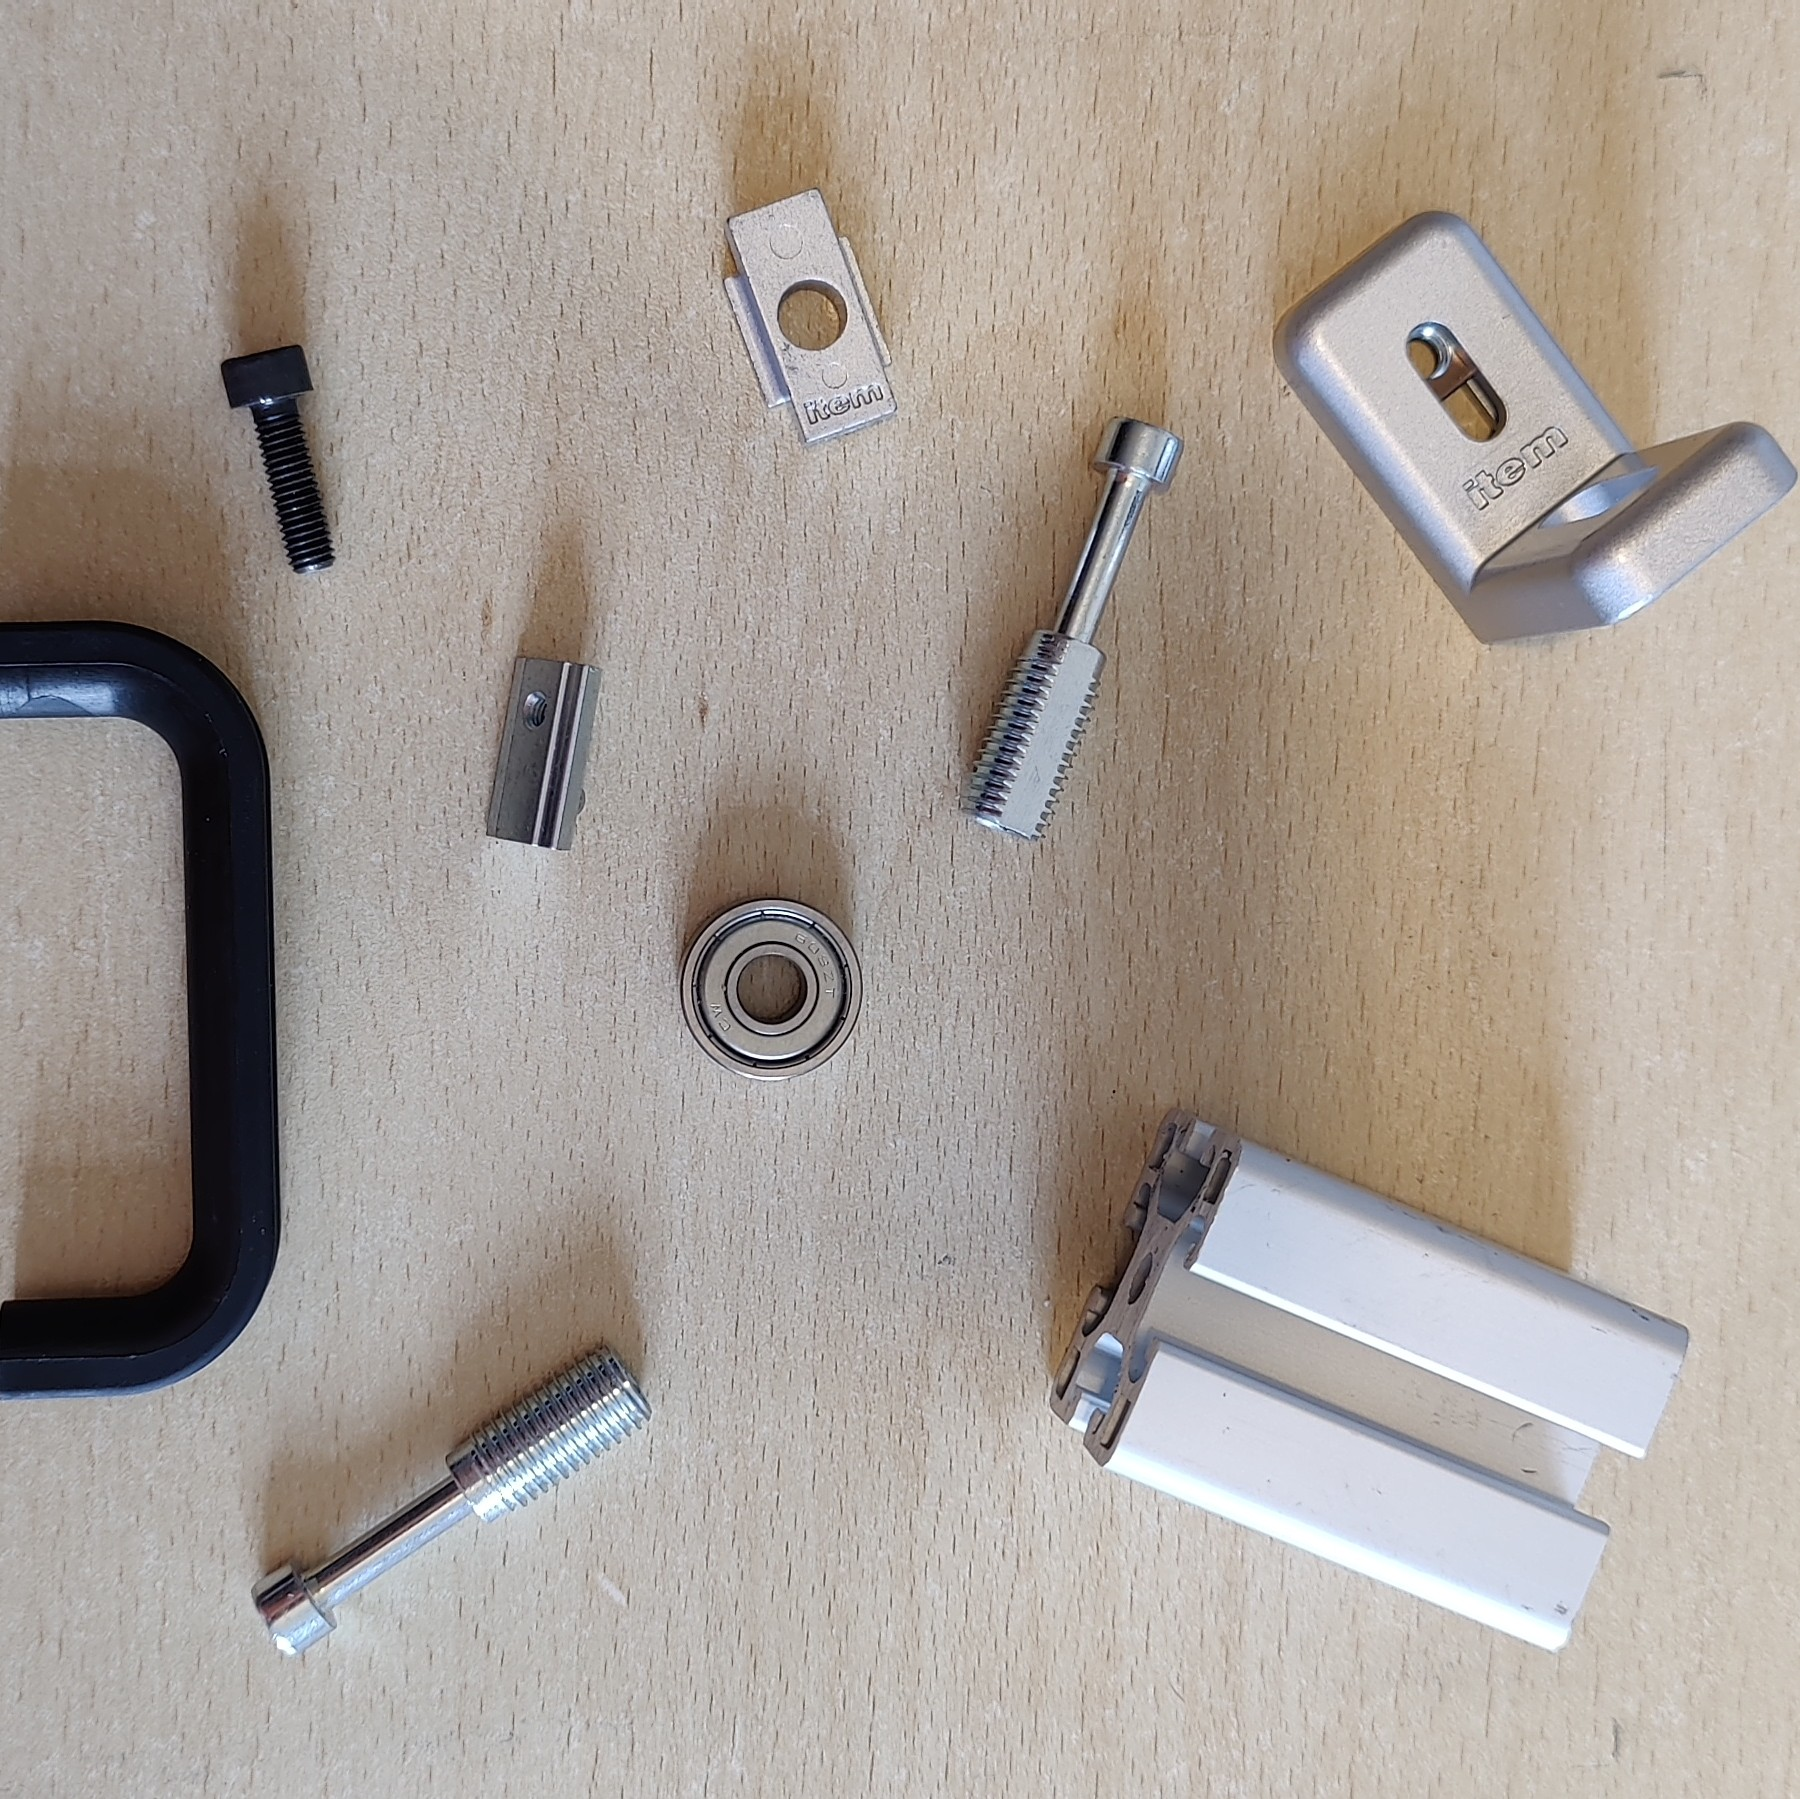Aluminium Extension: (1046, 1104, 1691, 1657)
Ball Bearing: (677, 895, 866, 1084)
Multiwinkel: (1273, 206, 1800, 646)
Pull Handle: (2, 618, 283, 1404)
Shoulder Socket Head Cap Screw: (250, 1334, 655, 1661), (958, 414, 1186, 847)
Socket Head Cap Screw: (216, 339, 336, 577)
T Nut Square: (720, 183, 901, 453)
T Spring Nut: (483, 652, 606, 853)
